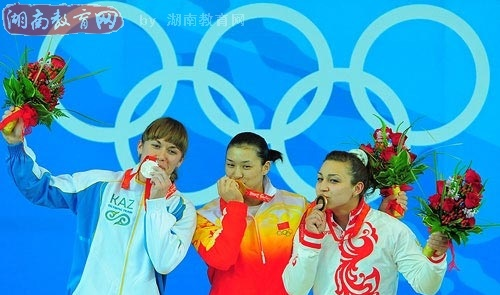face: (141, 135, 179, 181), (316, 162, 349, 208), (223, 148, 259, 187)
